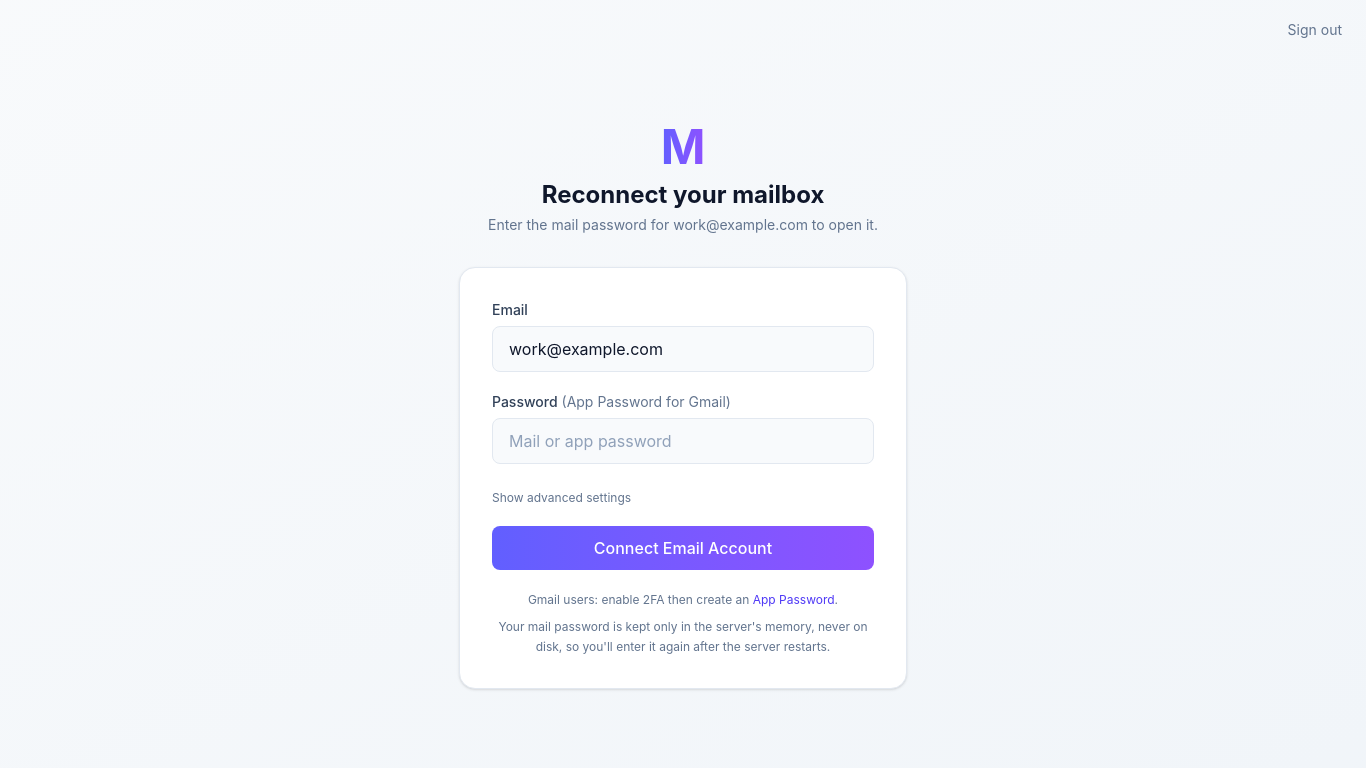
inbox page › asks for the password of a mailbox that is not connected
Expected: the heading "Reconnect your mailbox" is shown, [542,180,824,209]
Expected: the field labelled "Email" holds "work@example.com", [492,326,874,372]
In the password field labelled "Password (App Password for Gmail)": (683, 441) [492,418,874,464], type "pw"
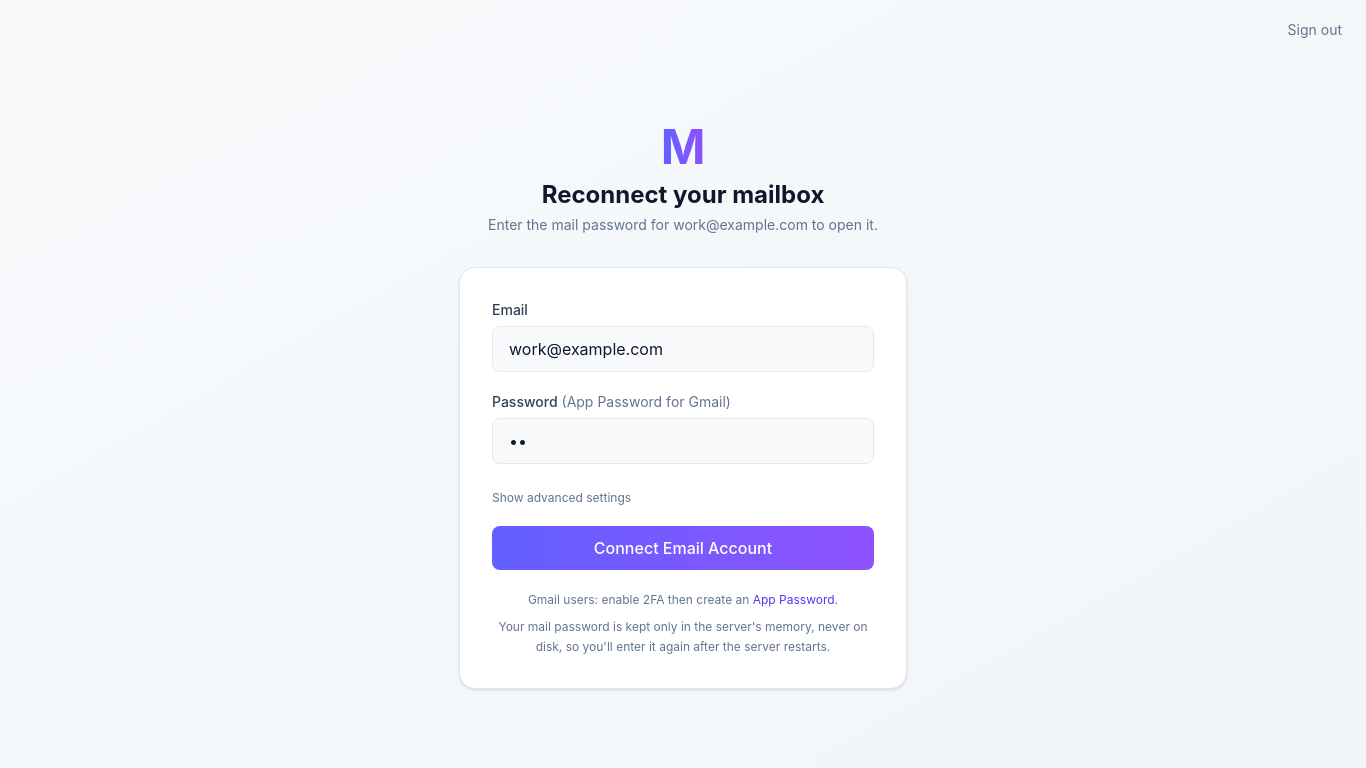
Click the button "Connect Email Account": click(683, 548) [492,526,874,570]
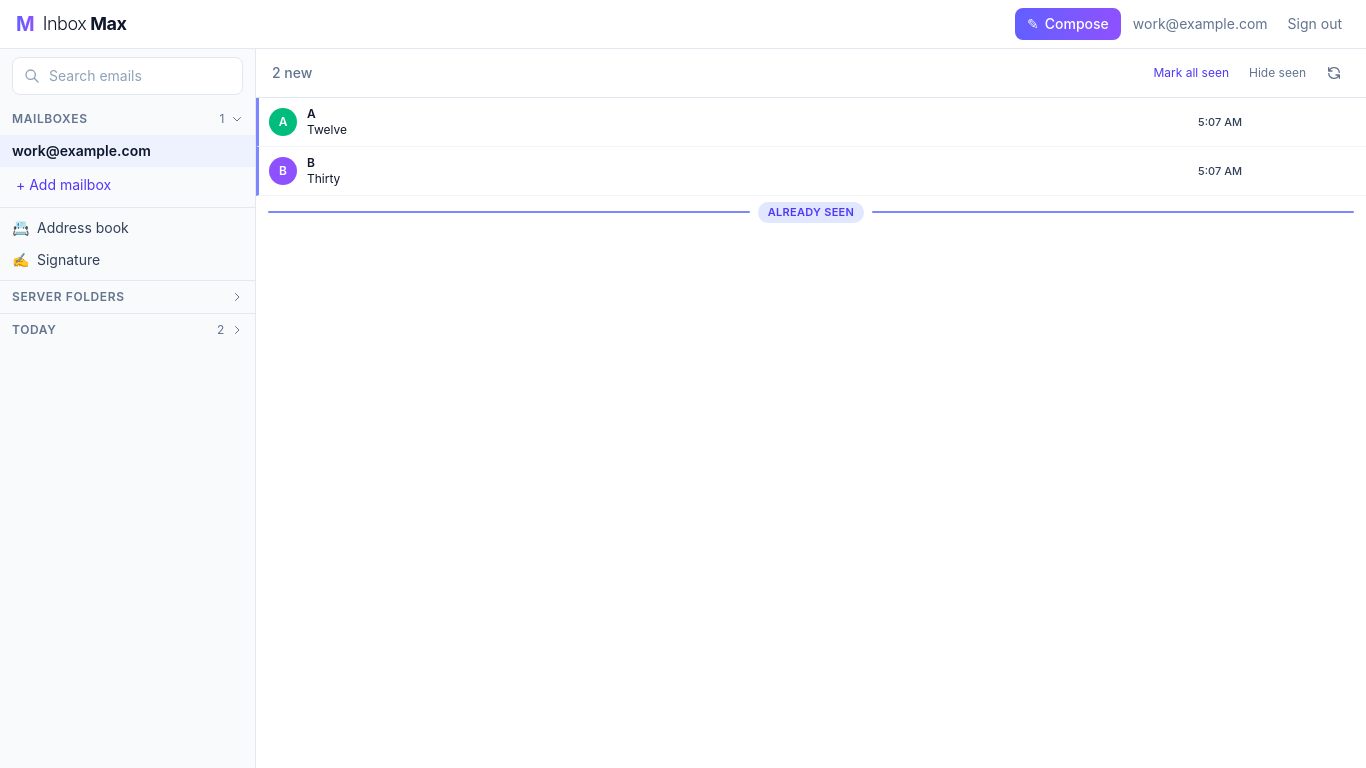
Now the text "Thirty" is shown, box [307,171,340,186]
